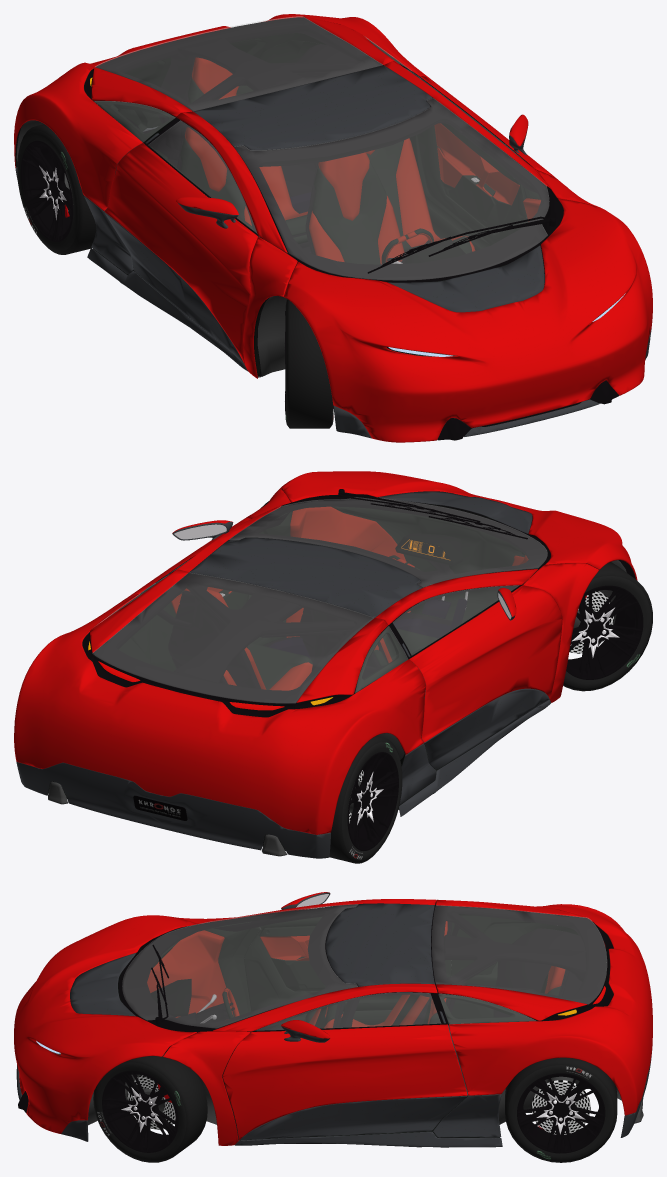
The model's file is sports-car.glb.
The picture shows the model from 3 angles, top to bottom: view 1: azimuth 30°, elevation 25°; view 2: azimuth 150°, elevation 25°; view 3: azimuth 270°, elevation 25°; orthographic projection. The views are drawn at different scales.
Visible parts, largest first — view 1: BodyRearPanelsColor1, BodyWindshield, BodyWindshieldGasket, BodyRoofPanel, InteriorDashSides, InteriorDashMid, InteriorSeatsColor2, object 21, WheelFrontLRim, BodyUnderside, InteriorMid, InteriorSteeringDash; view 2: BodyRearPanelsColor1, BodyWindshield, BodyRoofPanel, BodyWindshieldGasket, InteriorDashMid, WheelFrontLRim, object 21, InteriorDashSides, InteriorSeatsColor2, InteriorFloormats, InteriorSteeringDash, BodyUnderside (+3 smaller); view 3: BodyRearPanelsColor1, BodyWindshield, BodyRoofPanel, BodyWindshieldGasket, object 21, WheelFrontLRim, InteriorDashMid, InteriorDashSides, InteriorMid, WheelFrontLBrakeDisc, BodyUnderside, InteriorSeatsColor2 (+1 smaller).
Boxes of the visible parts, x1=… form: BodyRearPanelsColor1: x1=14, y1=14, x2=652, y2=442; BodyWindshield: x1=94, y1=16, x2=549, y2=280; BodyWindshieldGasket: x1=16, y1=17, x2=618, y2=440; BodyRoofPanel: x1=15, y1=65, x2=651, y2=438; InteriorDashSides: x1=185, y1=57, x2=540, y2=349; InteriorDashMid: x1=15, y1=33, x2=526, y2=281; InteriorSeatsColor2: x1=180, y1=78, x2=472, y2=264; object 21: x1=17, y1=124, x2=333, y2=428; WheelFrontLRim: x1=20, y1=140, x2=285, y2=414; BodyUnderside: x1=16, y1=78, x2=526, y2=425; InteriorMid: x1=93, y1=173, x2=557, y2=376; InteriorSteeringDash: x1=404, y1=239, x2=465, y2=263; BodyRearPanelsColor1: x1=14, y1=471, x2=637, y2=834; BodyWindshield: x1=92, y1=497, x2=547, y2=703; BodyRoofPanel: x1=16, y1=491, x2=550, y2=858; BodyWindshieldGasket: x1=83, y1=489, x2=635, y2=753; InteriorDashMid: x1=48, y1=503, x2=528, y2=850; WheelFrontLRim: x1=347, y1=585, x2=643, y2=850; object 21: x1=260, y1=501, x2=652, y2=863; InteriorDashSides: x1=171, y1=506, x2=528, y2=690; InteriorSeatsColor2: x1=246, y1=628, x2=437, y2=689; InteriorFloormats: x1=268, y1=598, x2=467, y2=659; InteriorSteeringDash: x1=395, y1=533, x2=462, y2=566; BodyUnderside: x1=48, y1=560, x2=626, y2=856; BodyRearPanelsColor1: x1=14, y1=892, x2=652, y2=1145; BodyWindshield: x1=122, y1=904, x2=606, y2=1030; BodyRoofPanel: x1=16, y1=892, x2=652, y2=1147; BodyWindshieldGasket: x1=18, y1=901, x2=613, y2=1143; object 21: x1=93, y1=1054, x2=617, y2=1162; WheelFrontLRim: x1=102, y1=1070, x2=605, y2=1153; InteriorDashMid: x1=118, y1=908, x2=613, y2=1030; InteriorDashSides: x1=147, y1=921, x2=565, y2=1028; InteriorMid: x1=205, y1=921, x2=499, y2=1143; WheelFrontLBrakeDisc: x1=127, y1=1075, x2=590, y2=1134; BodyUnderside: x1=38, y1=927, x2=643, y2=1125; InteriorSeatsColor2: x1=304, y1=973, x2=560, y2=1028.
Size of the model in its own units: 2.54 by 1.15 by 4.36.
Materials: 23 (18 with a texture image).
